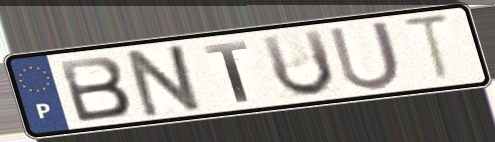B: (55, 53, 135, 124)
N: (123, 41, 208, 120)
T: (398, 12, 455, 86), (201, 39, 252, 105)
U: (325, 17, 405, 93), (257, 26, 339, 100)
